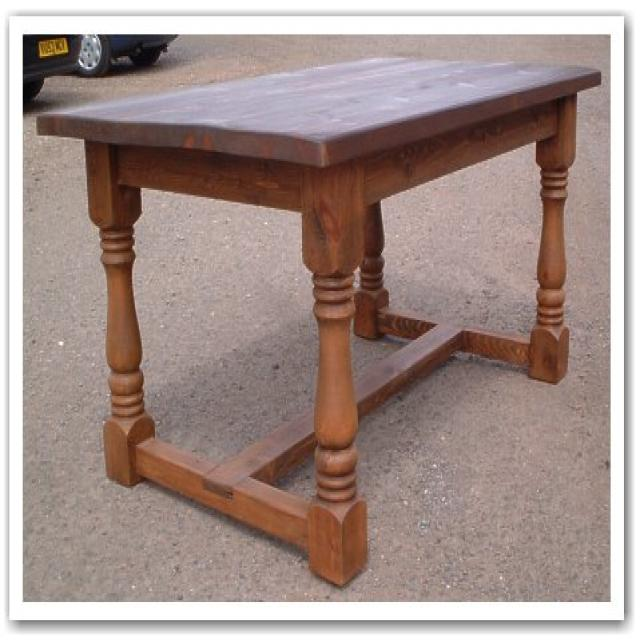table: (33, 55, 605, 588)
